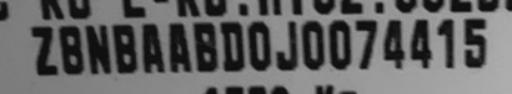letter: (82, 22, 114, 74), (28, 24, 60, 76), (56, 24, 86, 76), (380, 18, 408, 70), (218, 20, 246, 72), (191, 21, 219, 73), (110, 22, 138, 74), (246, 18, 272, 72), (138, 22, 166, 72), (326, 17, 352, 70), (462, 17, 488, 70), (353, 17, 379, 69), (408, 17, 434, 69), (299, 19, 325, 71), (166, 20, 192, 72), (275, 19, 299, 71), (434, 16, 456, 70)
